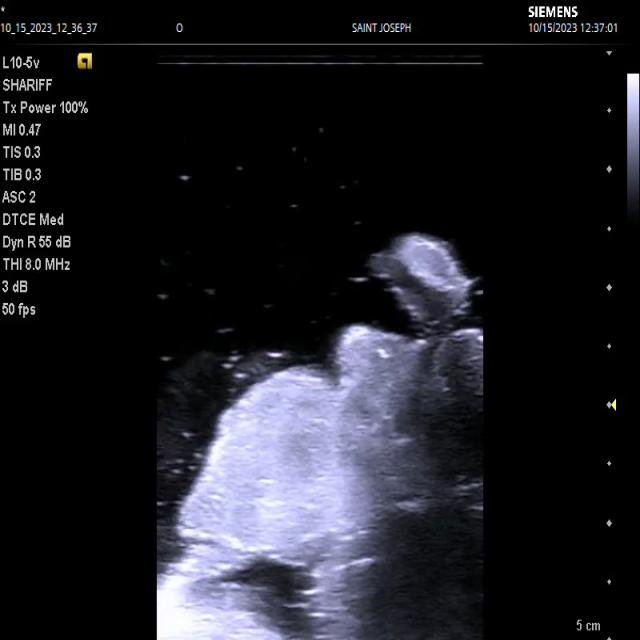tissue: (158, 326, 483, 640), (367, 234, 470, 330)
